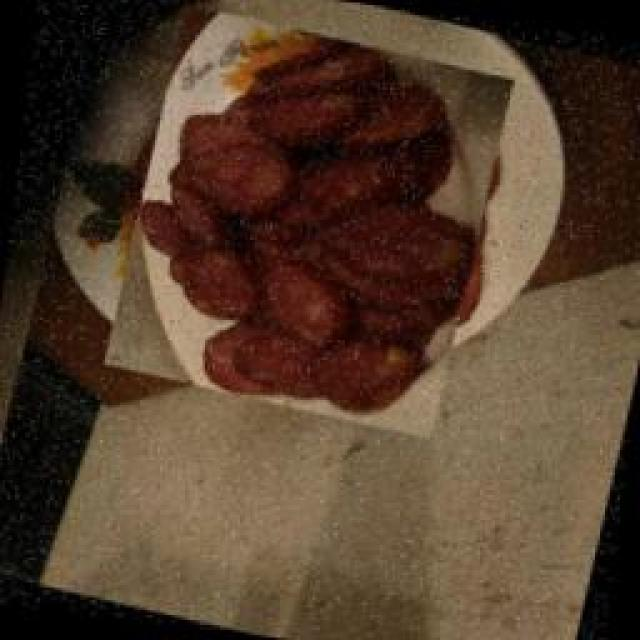Wet Waste: (93, 5, 525, 437)
